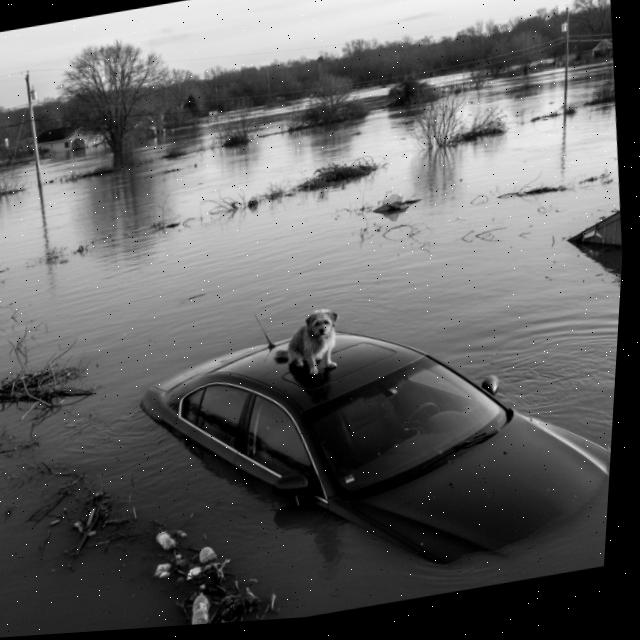dog: (271, 294, 355, 387)
